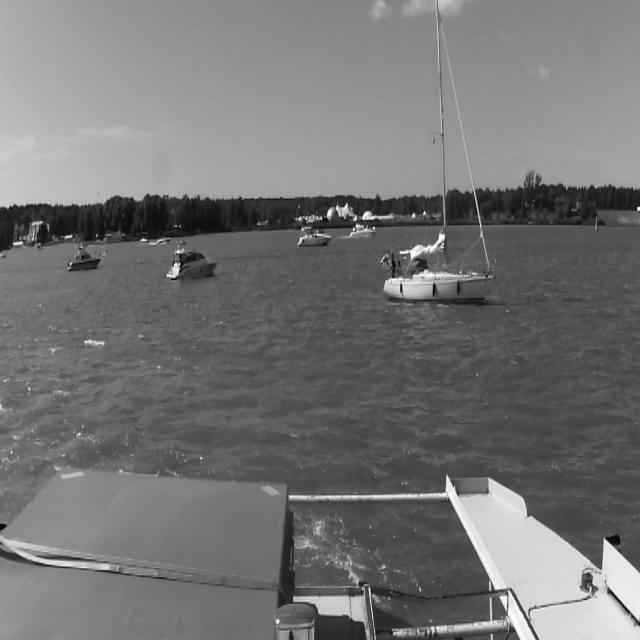ship: (384, 11, 495, 300), (165, 250, 217, 282), (298, 224, 330, 246), (69, 251, 99, 270), (349, 222, 375, 239), (96, 243, 110, 260), (157, 237, 171, 246)
